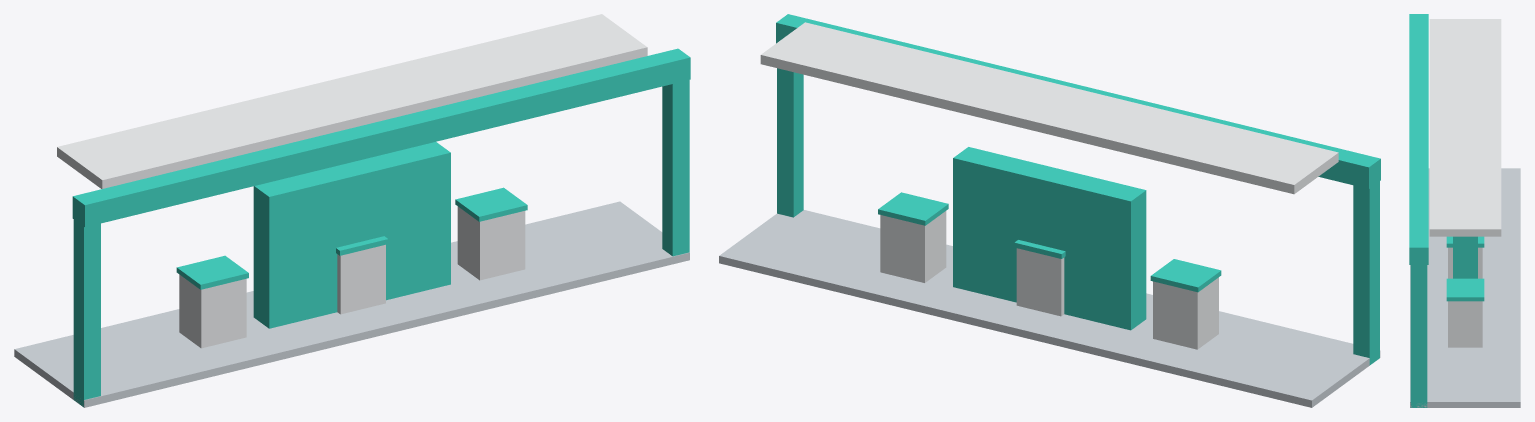
The picture shows the model from 3 angles, left to right: view 1: azimuth 30°, elevation 25°; view 2: azimuth 150°, elevation 25°; view 3: azimuth 270°, elevation 25°; orthographic projection. The views are drawn at different scales.
Parts seen in each view (by area): view 1: Exhibition Booth Concept; view 2: Exhibition Booth Concept; view 3: Exhibition Booth Concept.
Part boxes in pixels (left/top/right/bottom): Exhibition Booth Concept: left=14, top=14, right=690, bottom=407; Exhibition Booth Concept: left=719, top=14, right=1380, bottom=407; Exhibition Booth Concept: left=1409, top=14, right=1520, bottom=407.
Bounding box in the file's own units: 10 × 3.34 × 2.01.
